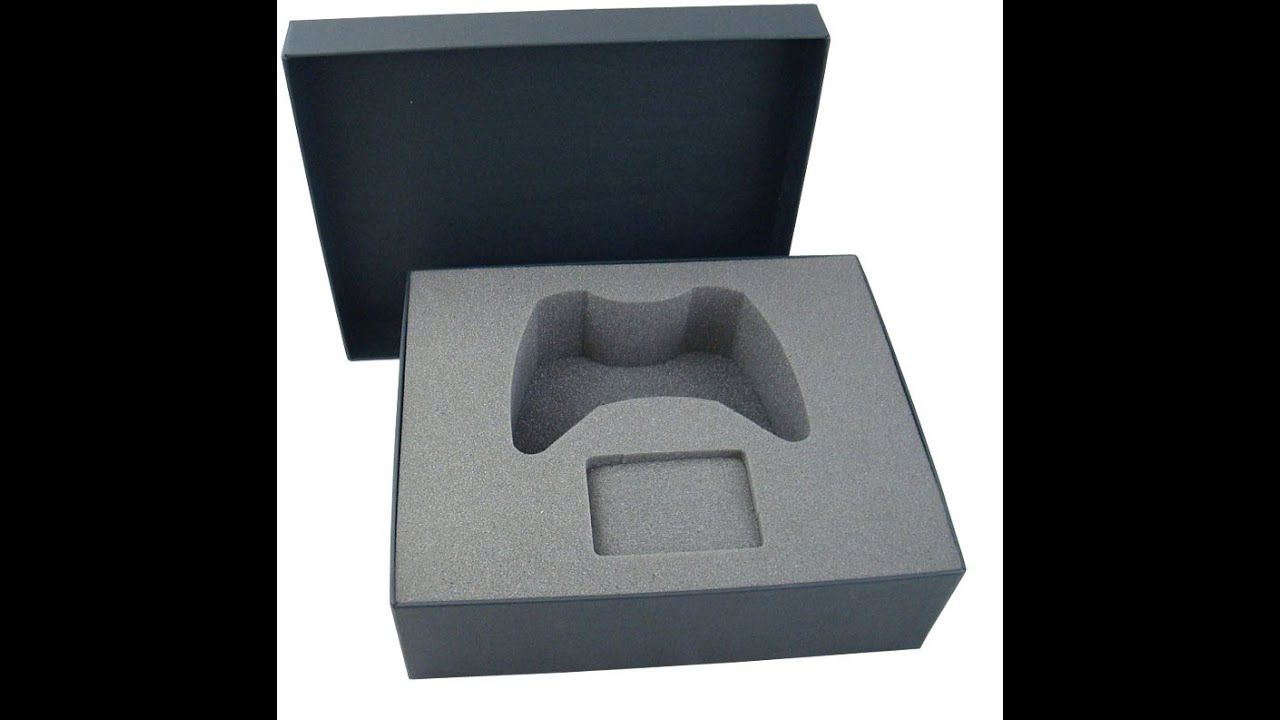Boxes: (282, 5, 970, 679)
